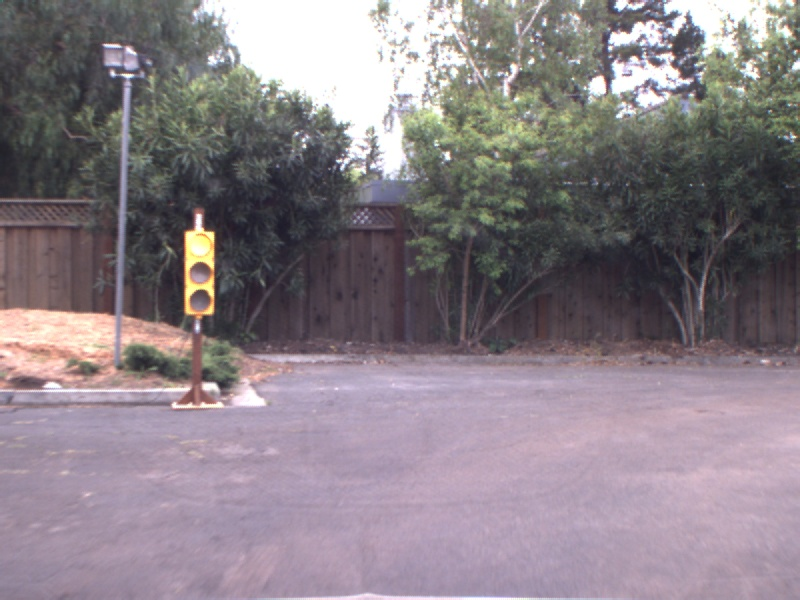red: (176, 218, 222, 325)
